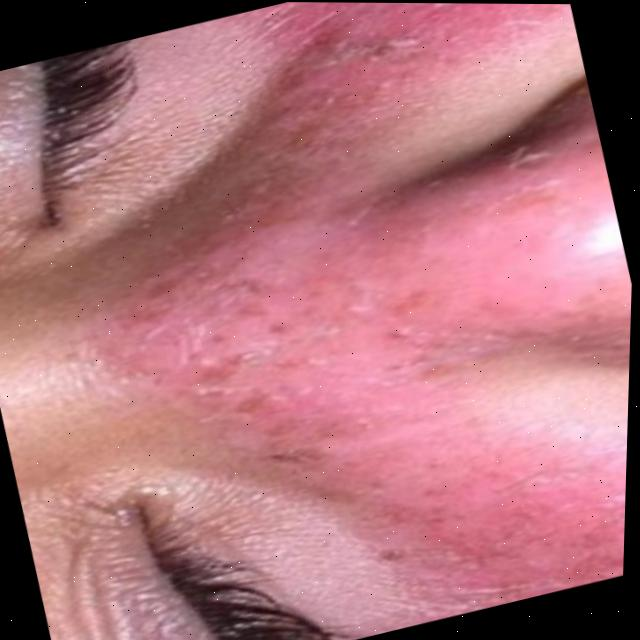Rosacea: (74, 1, 640, 640)
